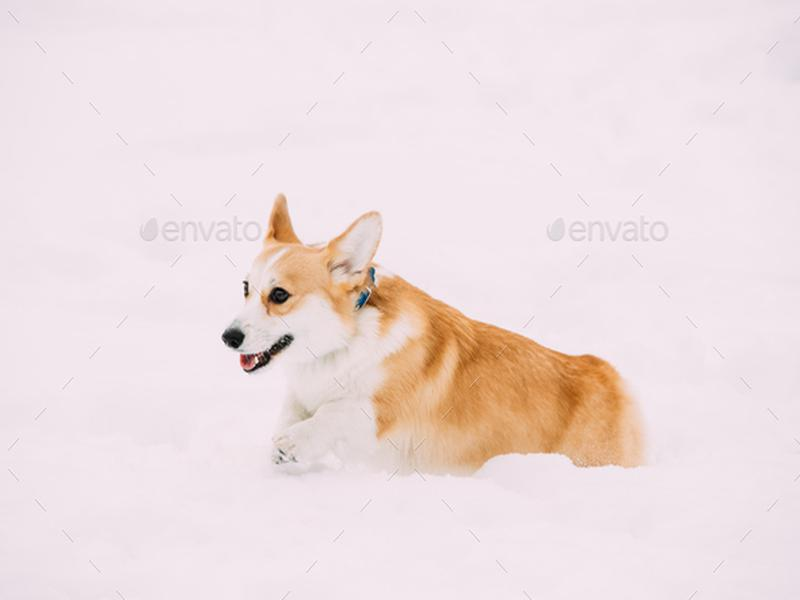corgi: (220, 194, 385, 381)
